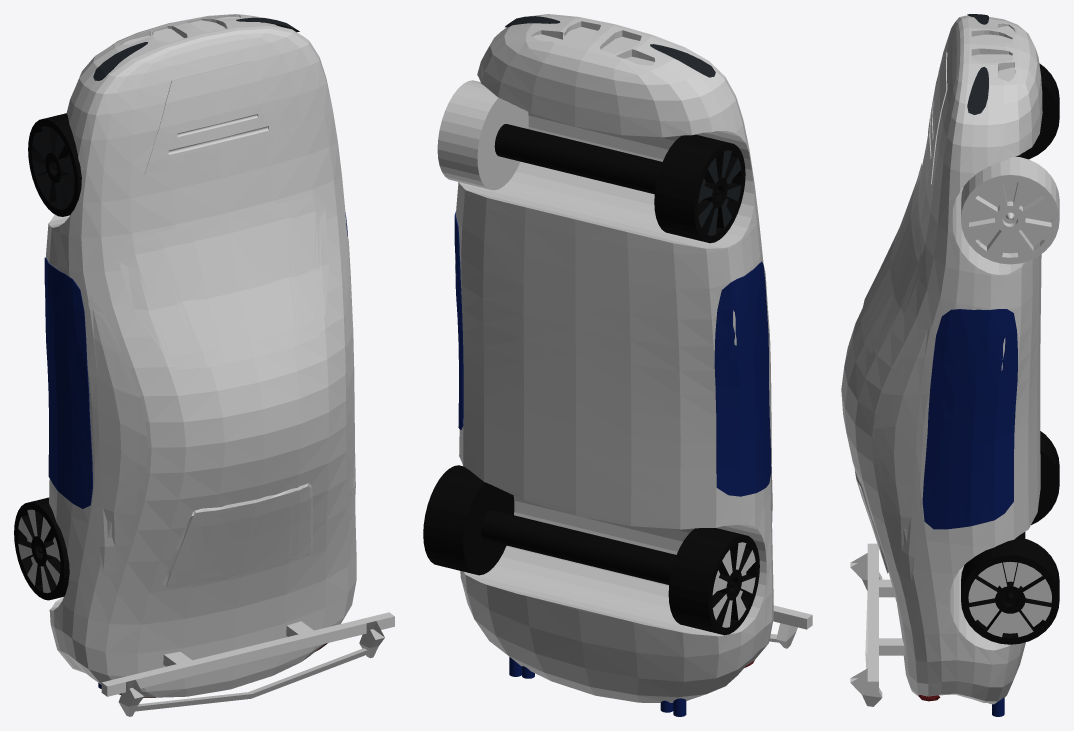
File: Car3_converted.obj
The picture shows the model from 3 angles, left to right: view 1: azimuth 30°, elevation 25°; view 2: azimuth 150°, elevation 25°; view 3: azimuth 270°, elevation 25°; orthographic projection. The views are drawn at different scales.
Visible parts, largest first — view 1: Blue_Car_Bumper_Front, Blue_Car_Side_Panel, Blue_Car_Wheel_FrontLeft, Blue_Car_Wheel_RearLeft_002, Blue_Car_Detail_Rear; view 2: Blue_Car_Bumper_Front, Blue_Car_Side_Panel, Blue_Car_Wheel_RearLeft_002, Blue_Car_Wheel_FrontLeft, Blue_Car_Wheel_FrontRight_002, Blue_Car_Wheel_RearRight, Blue_Car_Wheel_FrontRight, Blue_Car_Wheel_RearLeft, Blue_Car_Detail_Rear, Blue_Car_Body_Shell; view 3: Blue_Car_Bumper_Front, Blue_Car_Side_Panel, Blue_Car_Wheel_RearRight, Blue_Car_Wheel_FrontRight_002, Blue_Car_Wheel_RearLeft_002, Blue_Car_Wheel_FrontLeft, Blue_Car_Detail_Rear.
Boxes of the visible parts, x1,y1,x2,y2 form: Blue_Car_Bumper_Front: [45, 14, 394, 716]; Blue_Car_Side_Panel: [44, 212, 347, 508]; Blue_Car_Wheel_FrontLeft: [14, 497, 69, 600]; Blue_Car_Wheel_RearLeft_002: [28, 113, 81, 216]; Blue_Car_Detail_Rear: [93, 17, 299, 80]; Blue_Car_Bumper_Front: [455, 14, 812, 702]; Blue_Car_Side_Panel: [454, 212, 771, 496]; Blue_Car_Wheel_RearLeft_002: [654, 134, 745, 243]; Blue_Car_Wheel_FrontLeft: [668, 528, 759, 635]; Blue_Car_Wheel_FrontRight_002: [423, 465, 514, 575]; Blue_Car_Wheel_RearRight: [437, 80, 528, 190]; Blue_Car_Wheel_FrontRight: [481, 510, 676, 584]; Blue_Car_Wheel_RearLeft: [494, 124, 662, 194]; Blue_Car_Detail_Rear: [505, 16, 715, 77]; Blue_Car_Body_Shell: [509, 657, 686, 716]; Blue_Car_Bumper_Front: [841, 15, 1042, 706]; Blue_Car_Side_Panel: [922, 309, 1017, 529]; Blue_Car_Wheel_RearRight: [961, 156, 1059, 264]; Blue_Car_Wheel_FrontRight_002: [961, 537, 1059, 644]; Blue_Car_Wheel_RearLeft_002: [1026, 63, 1059, 159]; Blue_Car_Wheel_FrontLeft: [1031, 431, 1059, 524]; Blue_Car_Detail_Rear: [967, 14, 988, 114].
Bounding box in the file's own units: 1.87 × 4 × 1.25.
